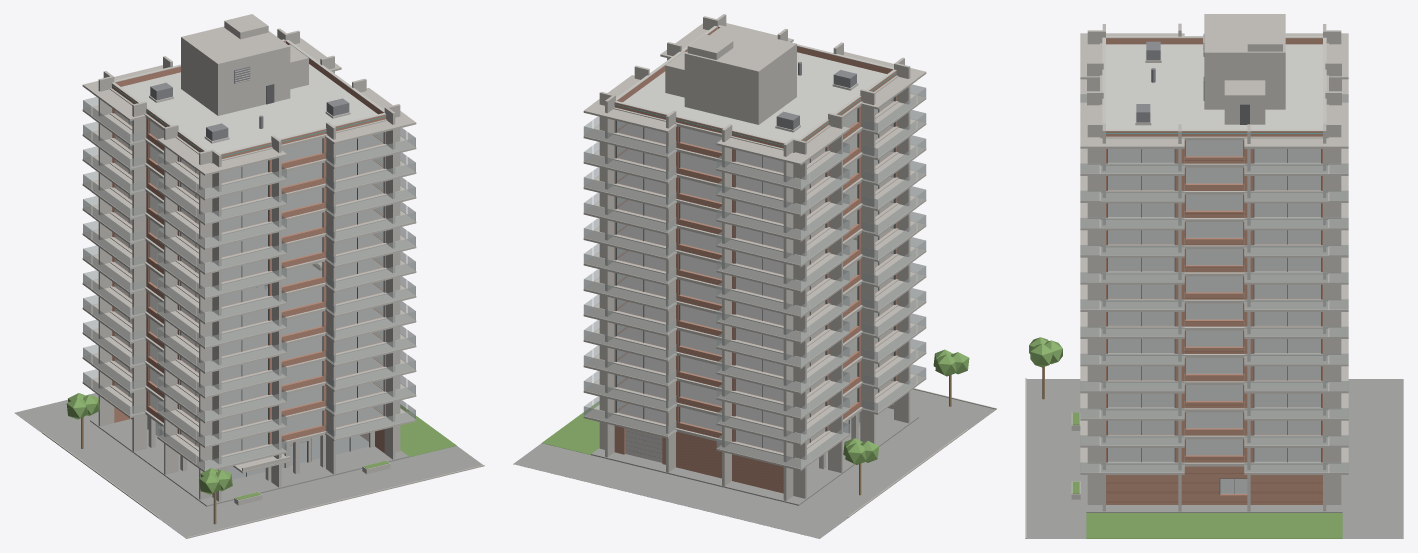
Rendered from clay-slab-balcony-tower-clay-v006.glb.
The picture shows the model from 3 angles, left to right: view 1: azimuth 30°, elevation 25°; view 2: azimuth 150°, elevation 25°; view 3: azimuth 270°, elevation 25°; orthographic projection. The views are drawn at different scales.
Visible parts, largest first — view 1: CLAY_CONCRETE, CLAY_GLASS, CLAY_FLOOR, CLAY_FOUNDATION, CLAY_WALL, CLAY_MEMBRANE, CLAY_PLANTING, CLAY_TRIM, CLAY_PALE, CLAY_HARDWARE, CLAY_STONE; view 2: CLAY_CONCRETE, CLAY_GLASS, CLAY_FLOOR, CLAY_FOUNDATION, CLAY_WALL, CLAY_MEMBRANE, CLAY_PLANTING, CLAY_PALE, CLAY_TRIM, CLAY_JOINT, CLAY_HARDWARE; view 3: CLAY_CONCRETE, CLAY_GLASS, CLAY_FLOOR, CLAY_FOUNDATION, CLAY_WALL, CLAY_MEMBRANE, CLAY_PLANTING, CLAY_JOINT, CLAY_TRIM, CLAY_PALE, CLAY_HARDWARE.
Boxes of the visible parts, x1,y1,x2,y2 form: CLAY_CONCRETE: (82, 14, 416, 505); CLAY_GLASS: (83, 97, 415, 479); CLAY_FLOOR: (115, 112, 383, 454); CLAY_FOUNDATION: (14, 393, 482, 538); CLAY_WALL: (112, 41, 385, 455); CLAY_MEMBRANE: (121, 64, 377, 152); CLAY_PLANTING: (66, 393, 456, 499); CLAY_TRIM: (113, 84, 384, 476); CLAY_PALE: (111, 39, 386, 265); CLAY_HARDWARE: (150, 66, 349, 140); CLAY_STONE: (42, 432, 484, 538); CLAY_CONCRETE: (583, 14, 926, 500); CLAY_GLASS: (583, 84, 926, 468); CLAY_FLOOR: (617, 100, 892, 452); CLAY_FOUNDATION: (513, 389, 995, 538); CLAY_WALL: (614, 27, 896, 493); CLAY_MEMBRANE: (623, 52, 886, 142); CLAY_PLANTING: (542, 349, 969, 464); CLAY_PALE: (614, 25, 896, 462); CLAY_TRIM: (616, 97, 894, 448); CLAY_JOINT: (614, 124, 860, 491); CLAY_HARDWARE: (626, 62, 856, 458); CLAY_CONCRETE: (1071, 14, 1348, 511); CLAY_GLASS: (1080, 80, 1348, 493); CLAY_FLOOR: (1108, 140, 1320, 461); CLAY_FOUNDATION: (1026, 379, 1403, 538); CLAY_WALL: (1106, 38, 1322, 504); CLAY_MEMBRANE: (1106, 44, 1322, 129); CLAY_PLANTING: (1029, 337, 1342, 538); CLAY_JOINT: (1106, 160, 1322, 502); CLAY_TRIM: (1107, 77, 1321, 494); CLAY_PALE: (1102, 35, 1326, 131); CLAY_HARDWARE: (1136, 34, 1204, 122).
Size of the model in its own units: 37.36 by 47 by 37.2.
